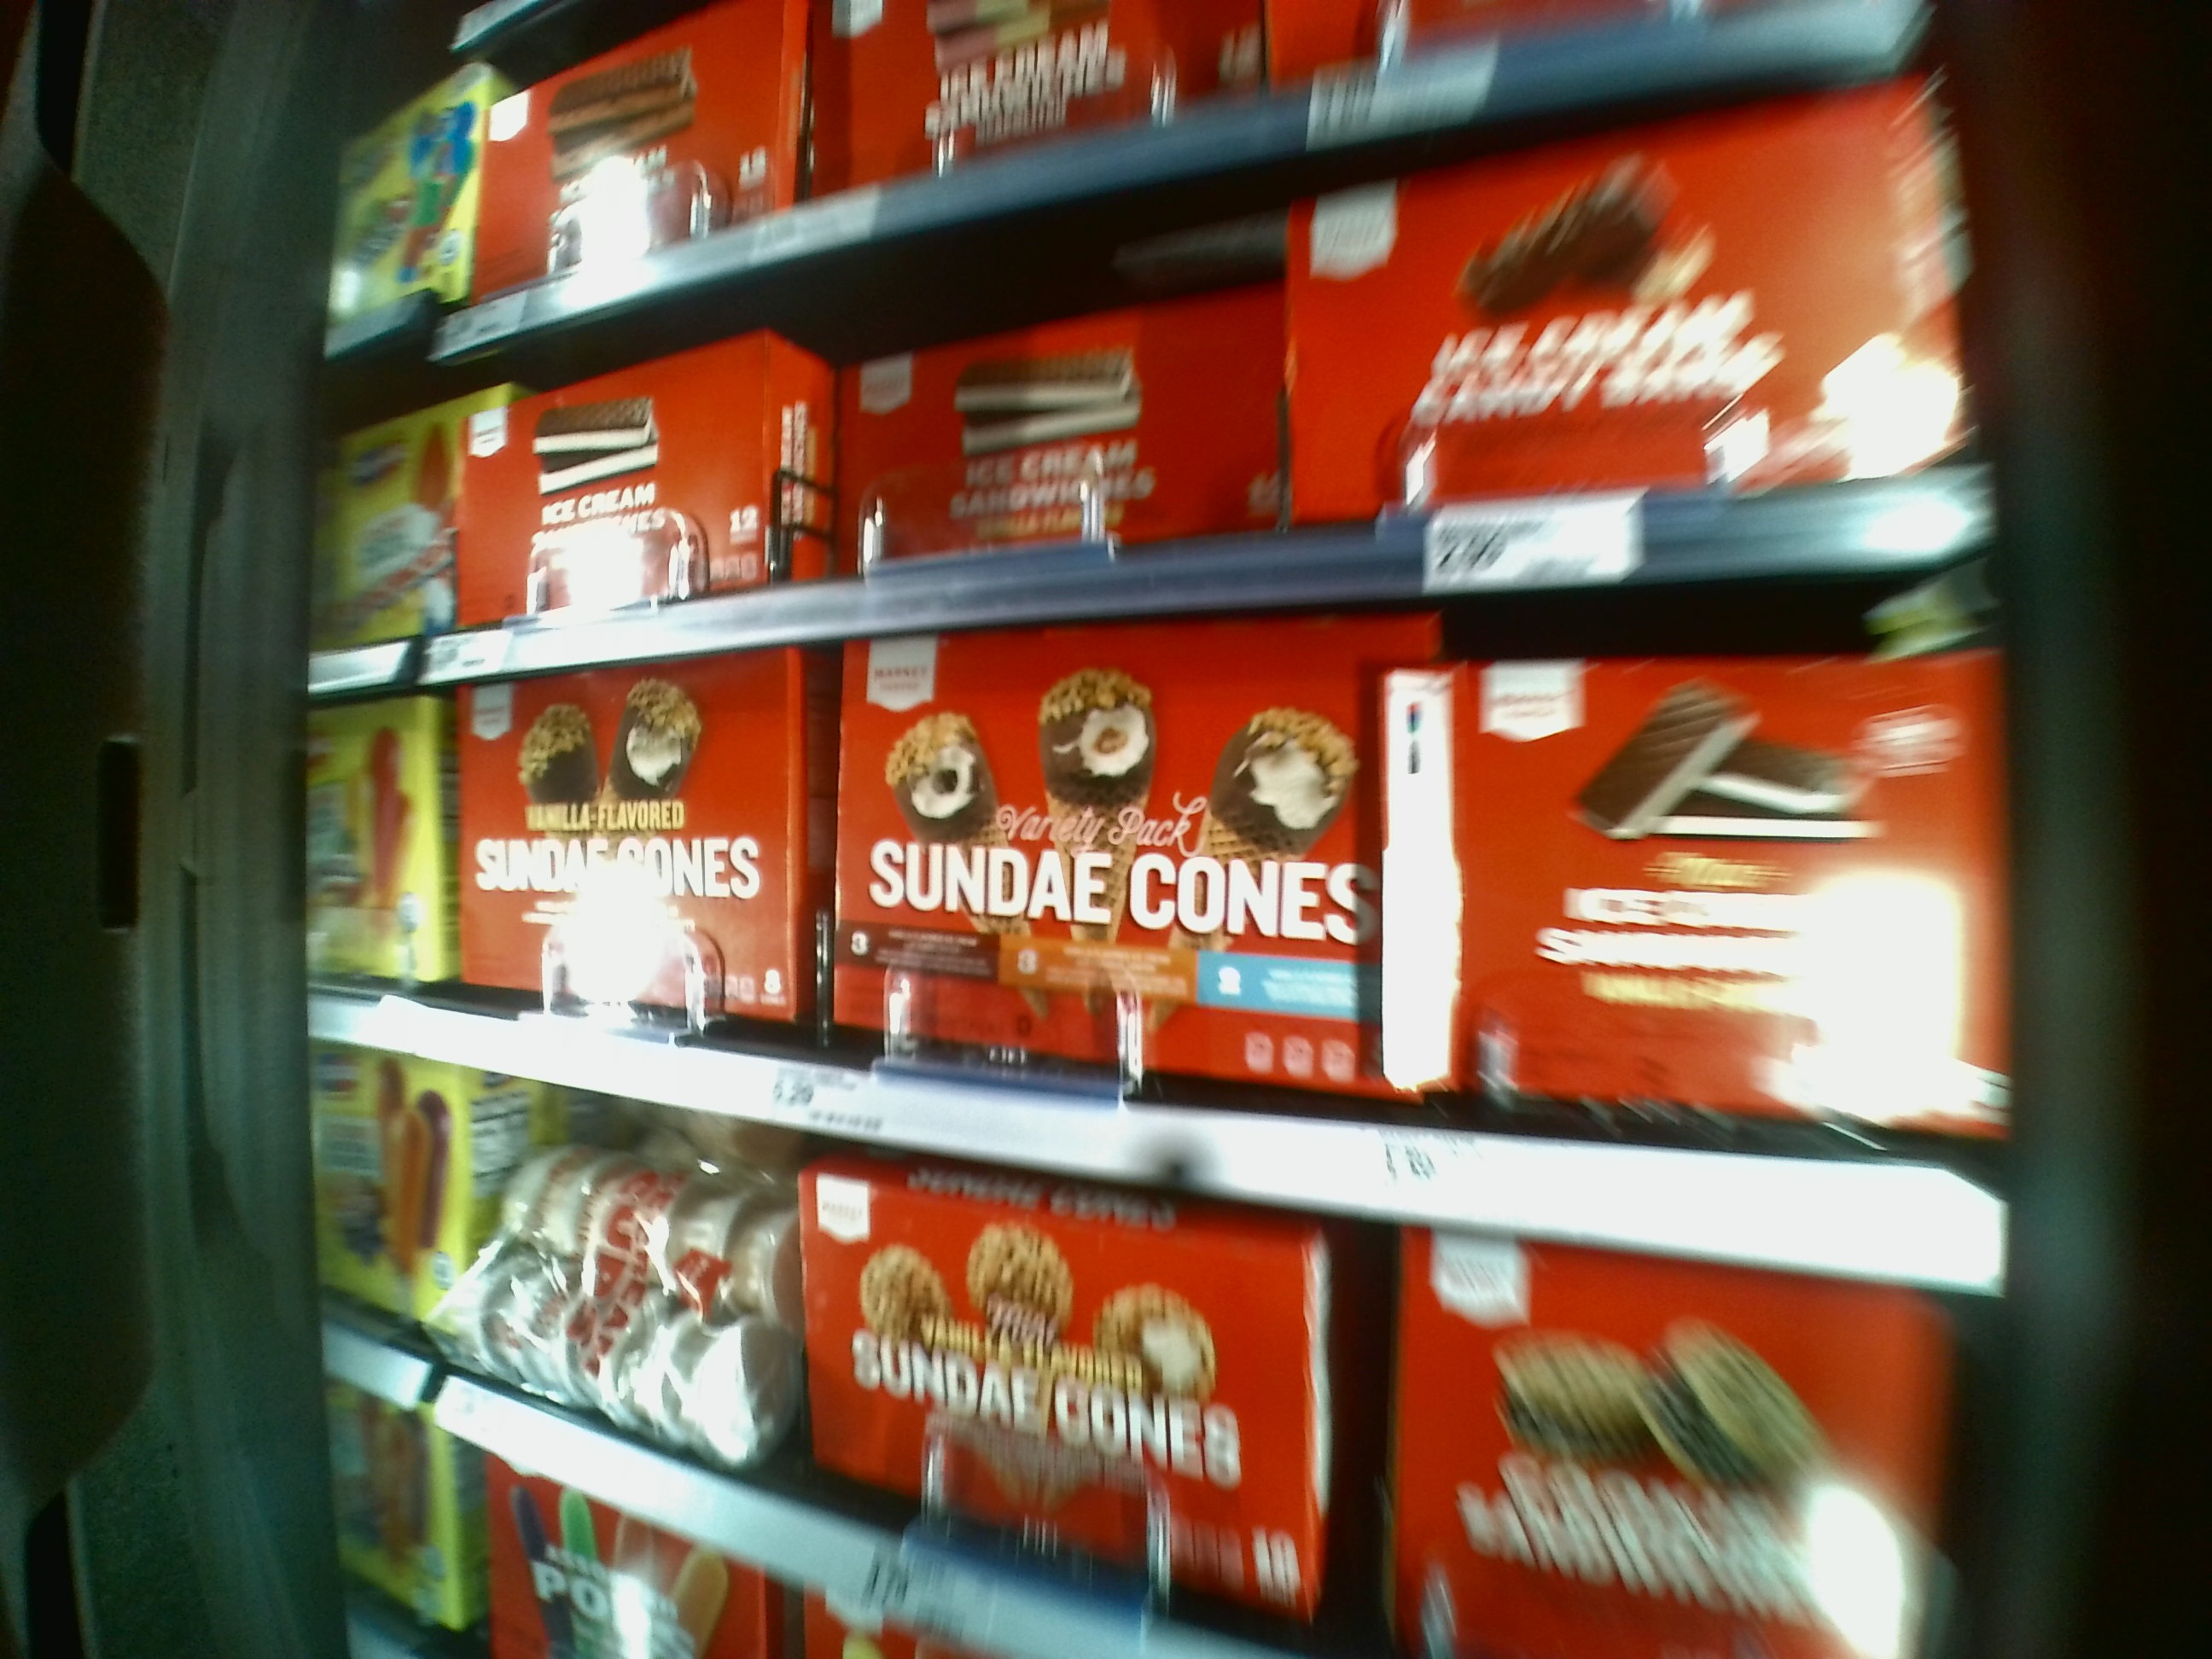shelf: (472, 1093, 1921, 1659), (449, 619, 2015, 1131), (441, 174, 1963, 666)
